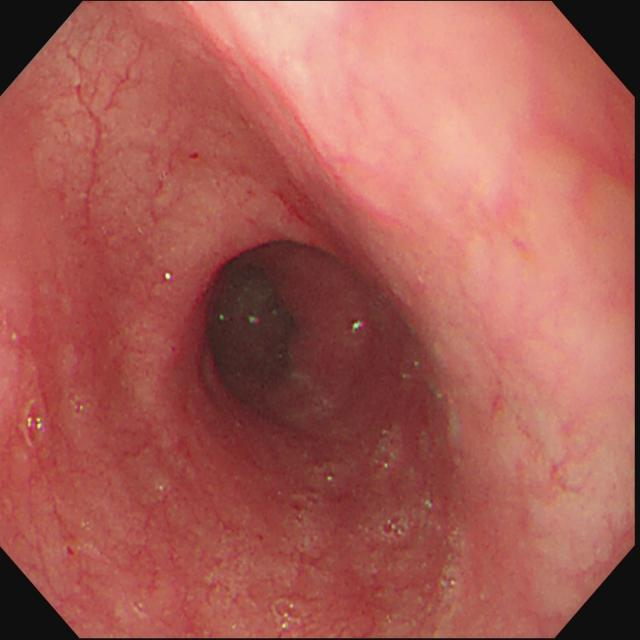E: (193, 256, 305, 412)
T: (372, 425, 403, 472), (23, 399, 47, 451), (379, 508, 410, 545)
